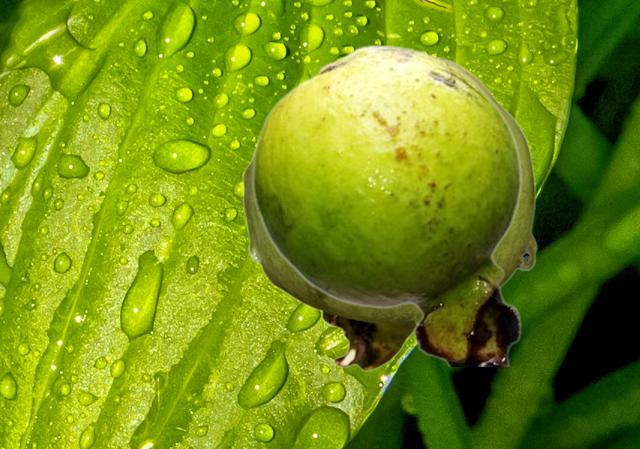guava: (242, 54, 536, 370), (251, 44, 522, 365)
